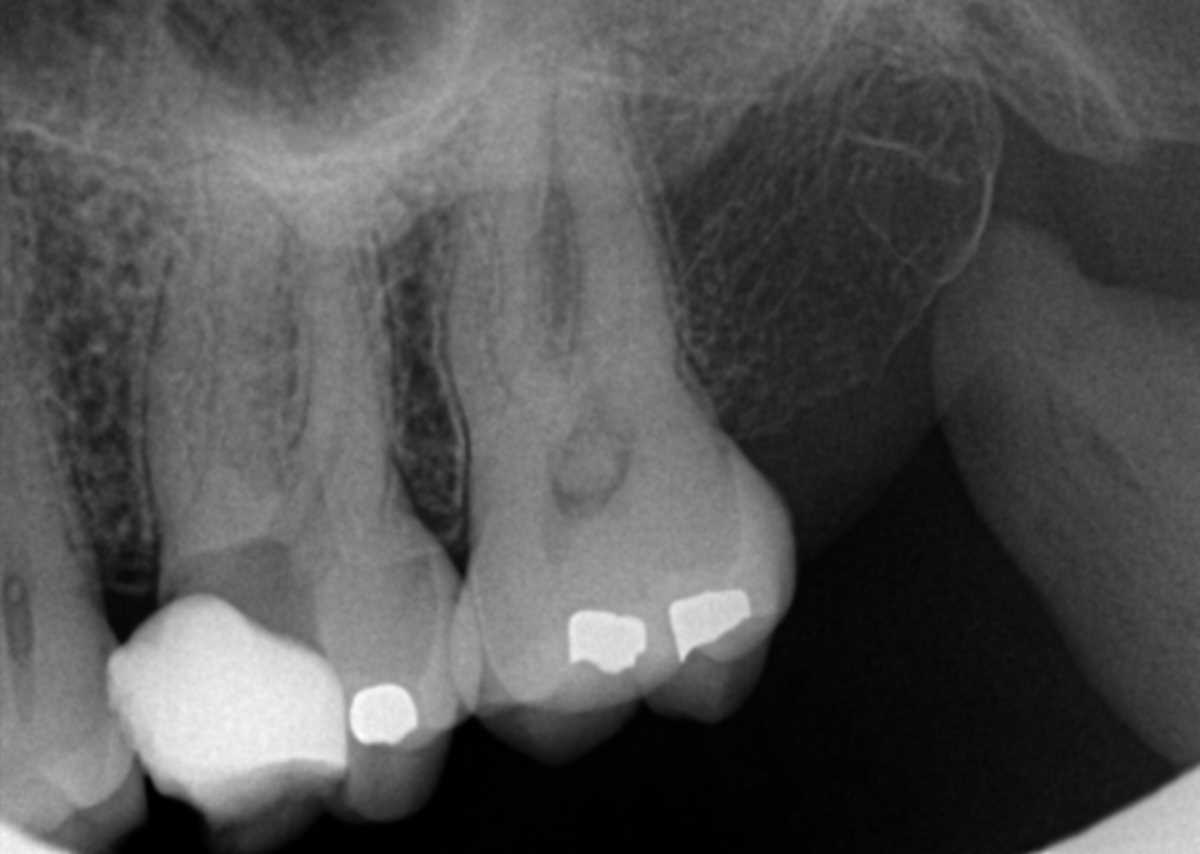Distal Canal: (318, 288, 356, 478)
Distal Root: (555, 18, 681, 425), (279, 88, 393, 498)
Main Root: (0, 162, 93, 573)
Mesial Canal: (481, 255, 556, 438)
Mesial Root: (145, 23, 294, 515), (439, 28, 566, 462)
